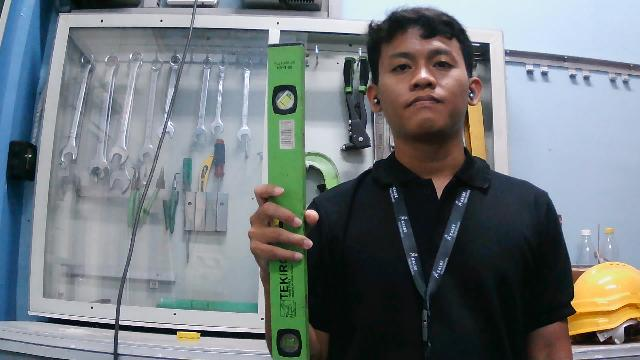water_pass: (259, 39, 315, 360)
